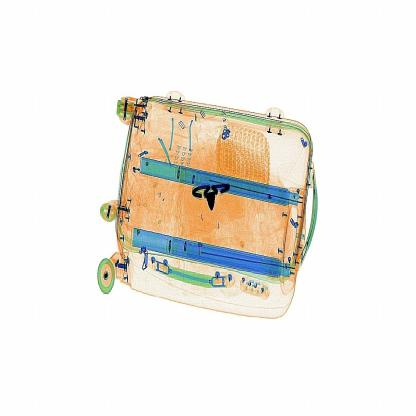gun: (190, 175, 235, 216)
